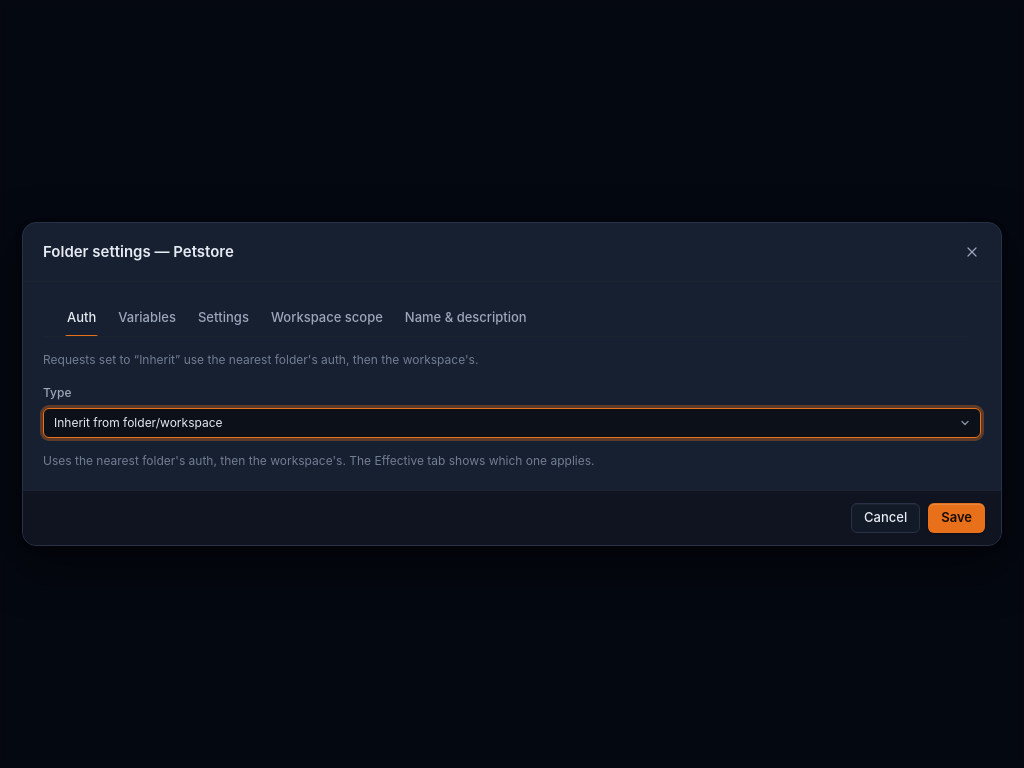
Scenario: an opened import root is isolated again without a confirmation
The width and height of the screenshot is (1024, 768).
Click the tab "Workspace scope". click: click(327, 318)
box: [261,300,393,336]
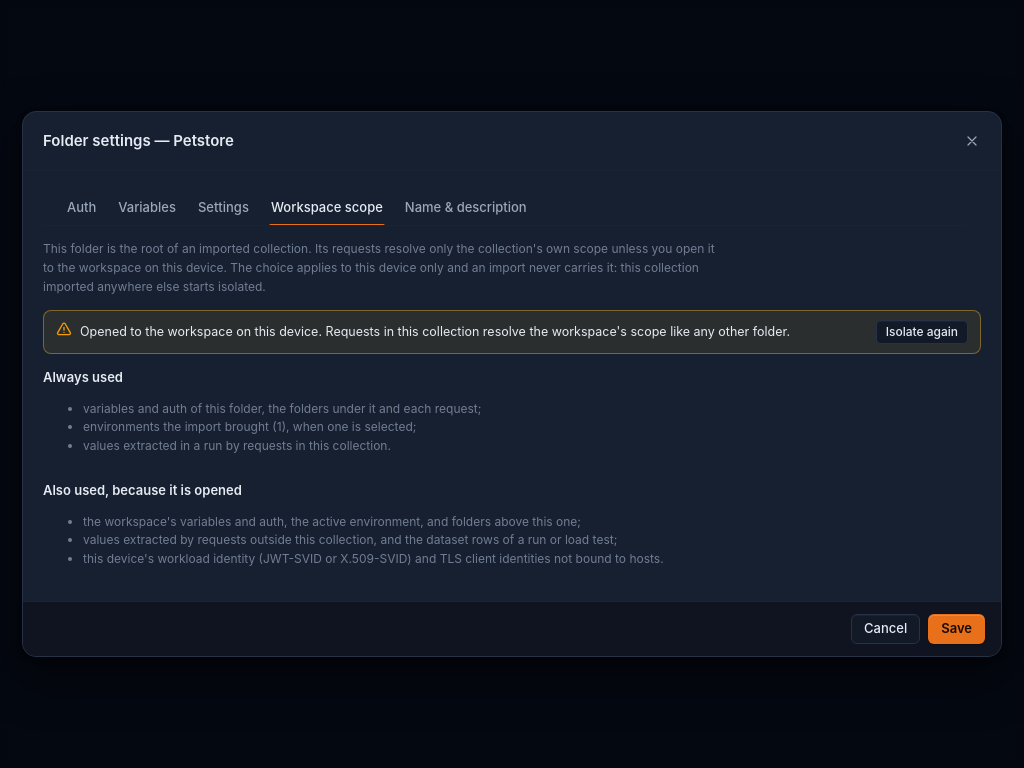
Now the text "Opened to the workspace on this device" is shown, box [80,324,790,339]
Click the button "Isolate again". click: click(922, 332)
box: [876,320,968,344]
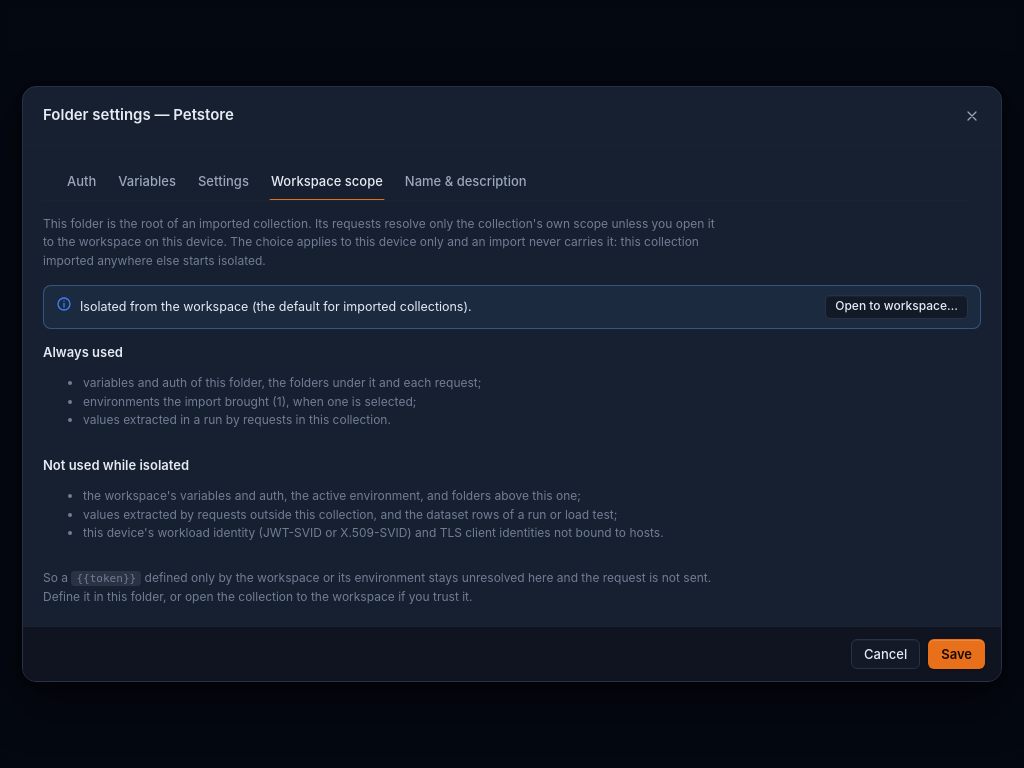
Now the text "Isolated from the workspace" is shown, box [80,299,472,314]
